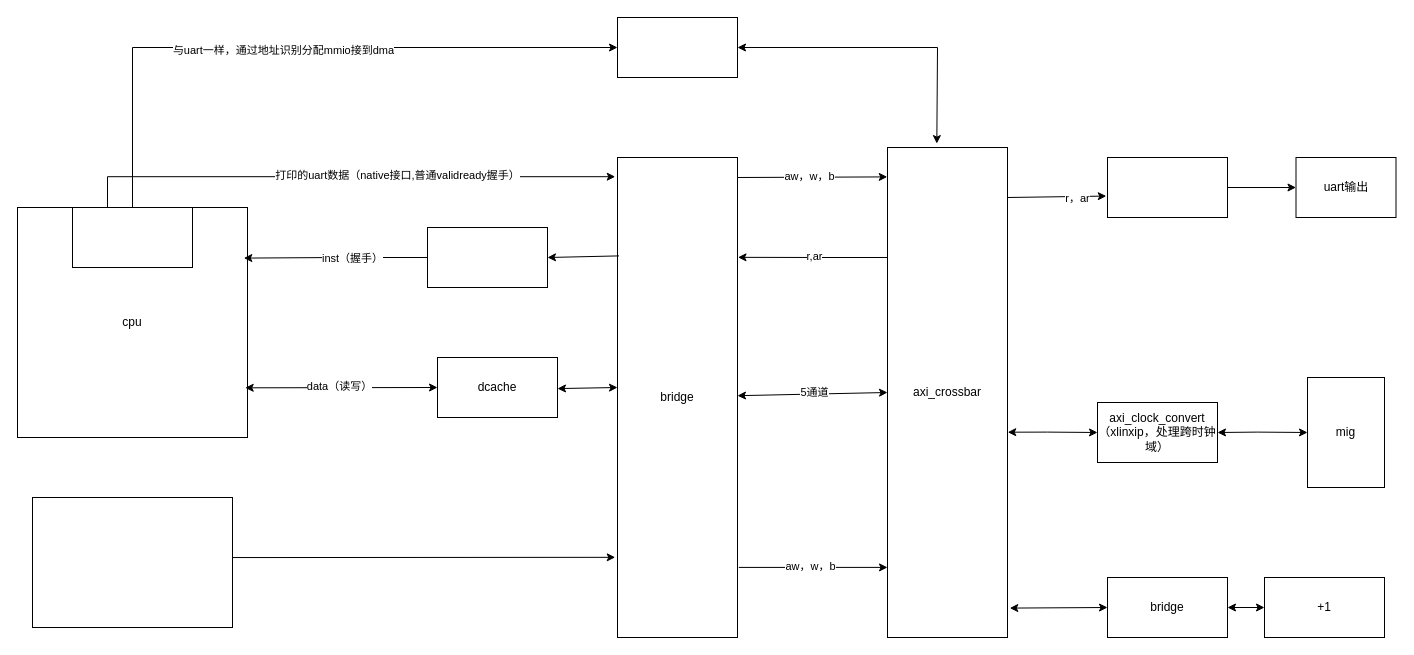
Some shapes in this 1414 by 655 pixel diagram are drawn without their labels. The centre of each missing label's shape, as x and y in pixels:
bridge（axi2native）: (1167,187)
dma: (677,47)
icache: (487,257)
loader: (132,562)
mem: (132,237)
